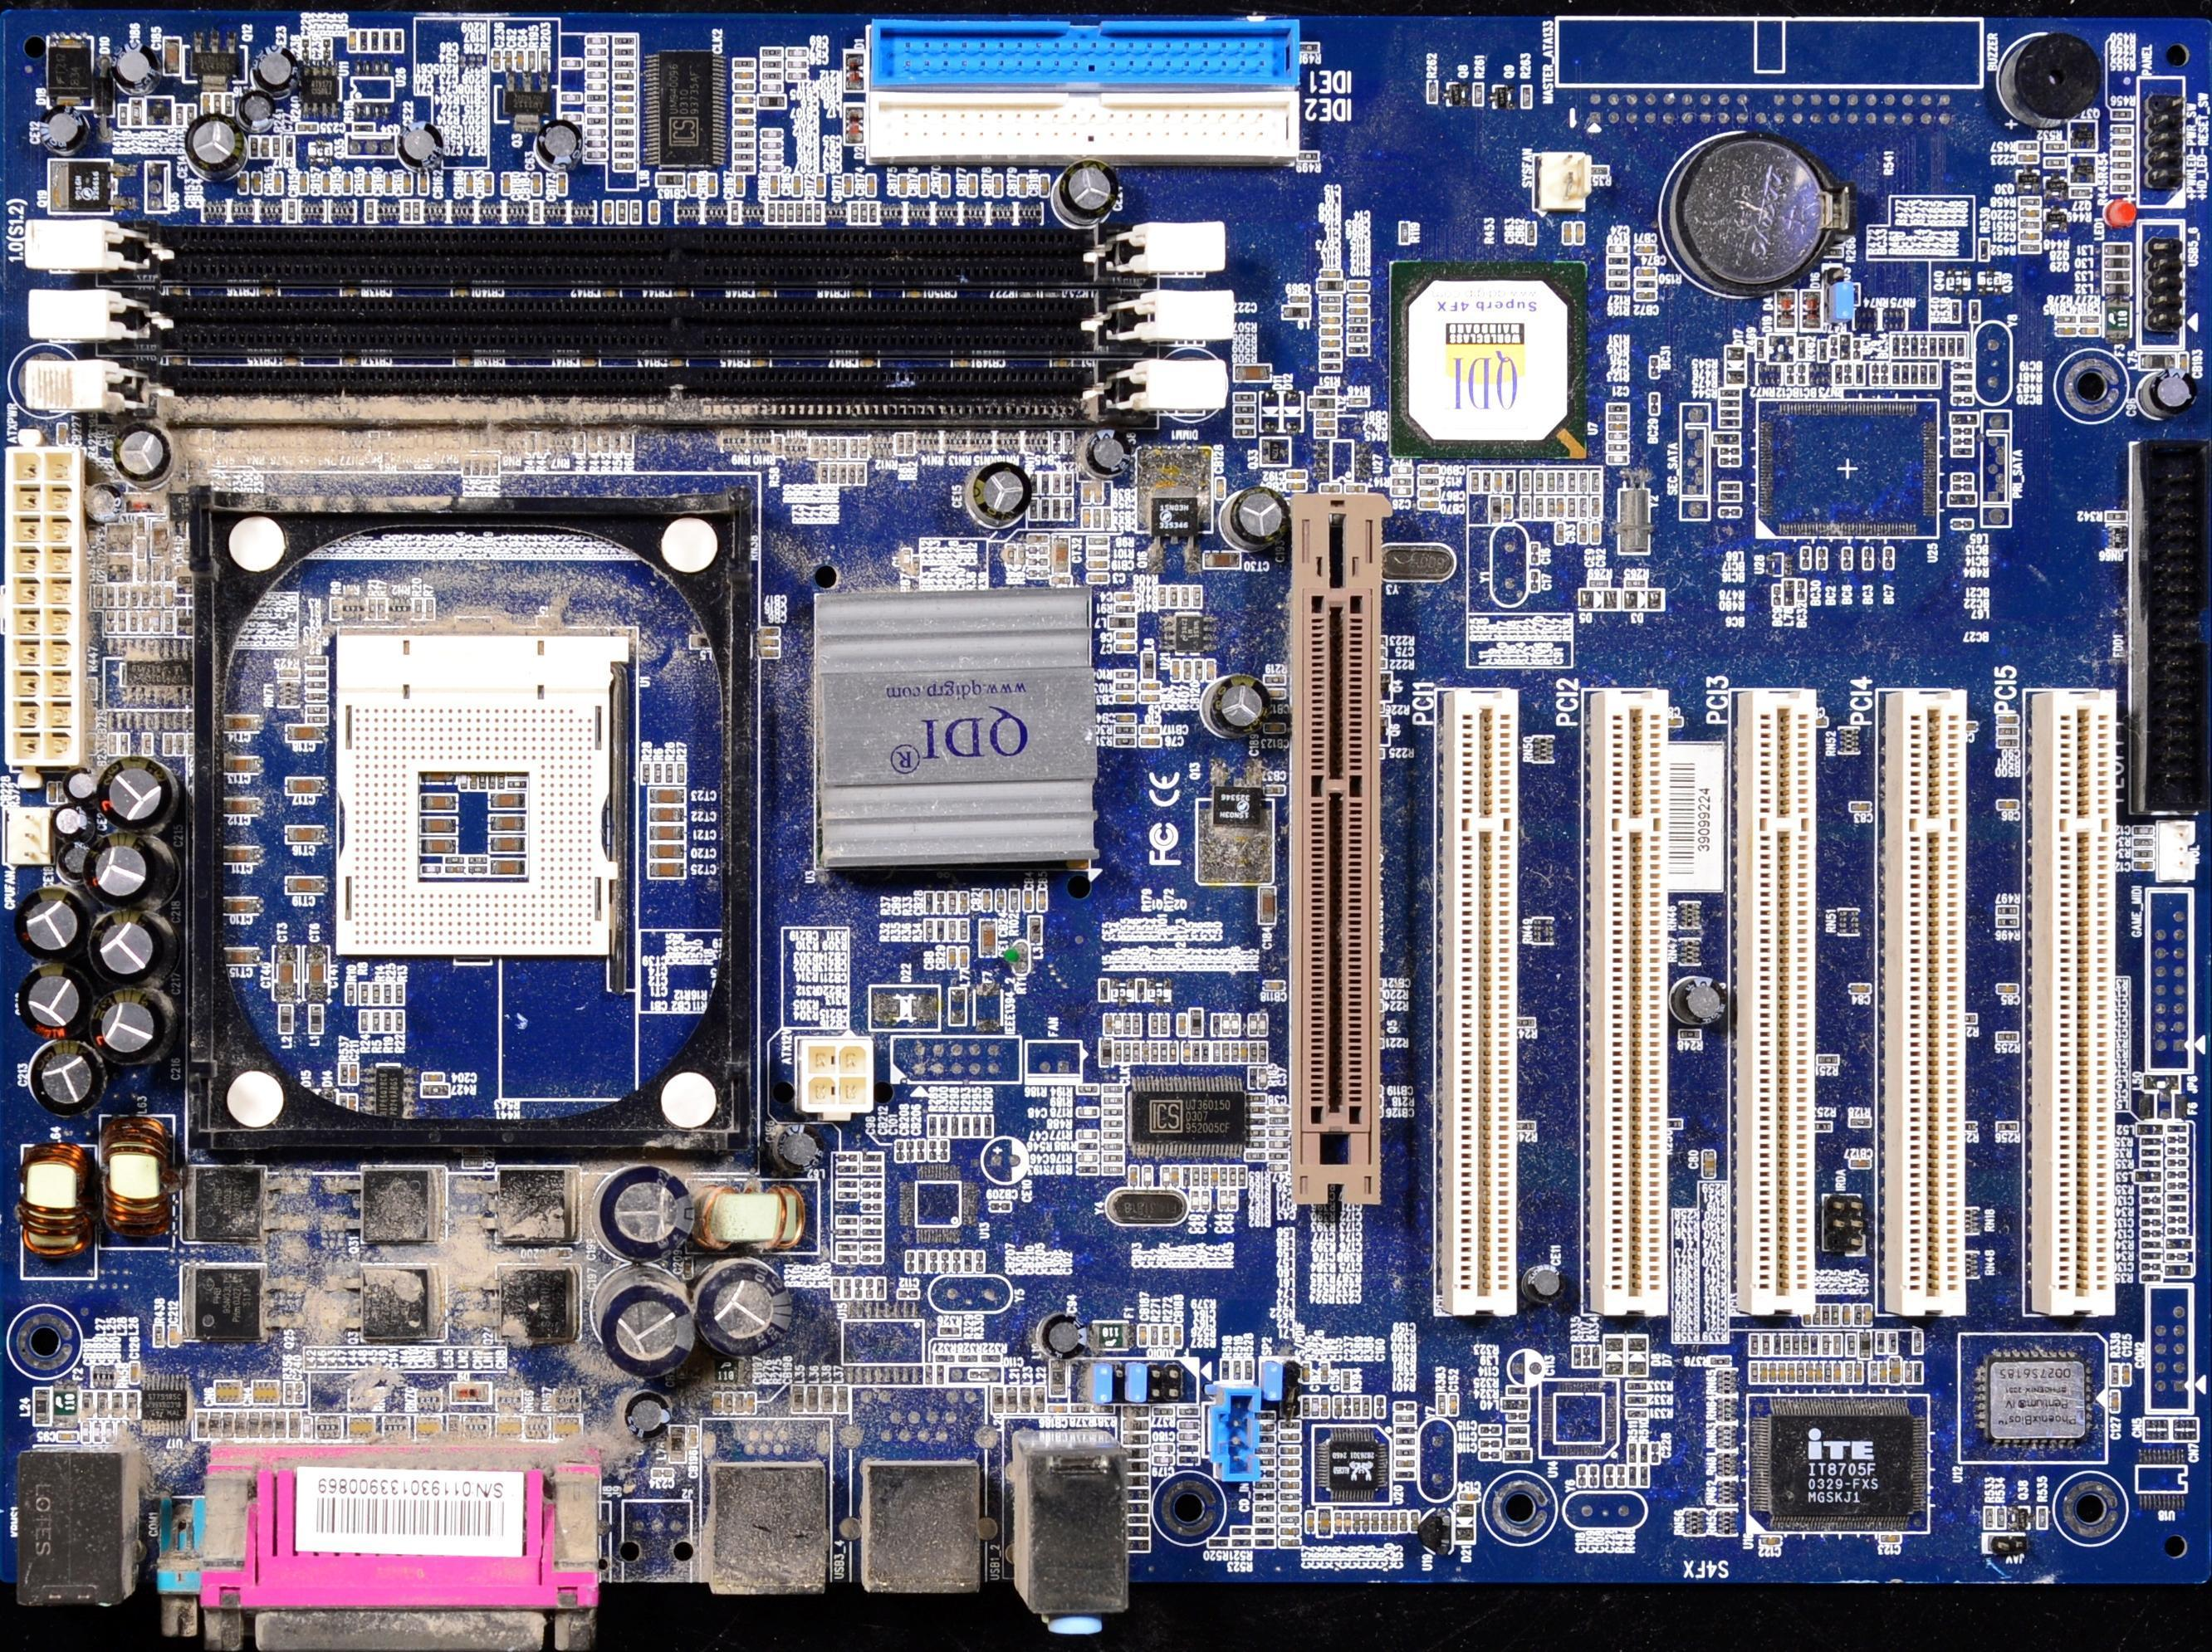Capacitor: (598, 1263, 695, 1384), (594, 1157, 697, 1262), (696, 1256, 800, 1359), (89, 910, 178, 989), (88, 835, 174, 913), (95, 984, 182, 1060), (94, 755, 176, 829), (12, 961, 94, 1033), (15, 884, 86, 964), (29, 1039, 103, 1115), (1056, 154, 1125, 226), (1206, 672, 1272, 739), (969, 462, 1035, 527), (182, 110, 245, 177), (110, 421, 174, 486), (1223, 484, 1289, 547), (35, 102, 95, 154), (771, 1122, 828, 1176), (534, 117, 586, 169), (395, 117, 446, 170), (2141, 370, 2198, 416), (249, 45, 299, 95), (622, 1390, 671, 1440), (1037, 1312, 1086, 1361), (110, 42, 157, 92), (1086, 428, 1131, 476), (1524, 1263, 1564, 1305), (57, 837, 93, 880), (85, 484, 123, 523), (235, 89, 273, 125), (51, 804, 89, 838), (64, 765, 99, 800), (163, 36, 182, 76), (1204, 550, 1242, 569), (1258, 886, 1276, 924), (1052, 537, 1069, 573), (1236, 365, 1270, 380), (1702, 1151, 1717, 1178), (1318, 1508, 1331, 1536), (586, 148, 610, 162), (1217, 1188, 1231, 1213), (1138, 736, 1163, 749), (1889, 1358, 1901, 1384), (585, 104, 609, 116), (2119, 1362, 2131, 1386), (2166, 1157, 2190, 1170), (1199, 1190, 1211, 1213), (759, 152, 785, 163), (2166, 1192, 2189, 1205), (56, 1430, 79, 1443), (1759, 1535, 1781, 1547), (2132, 860, 2156, 872), (2018, 231, 2041, 242), (1529, 543, 1540, 566), (1139, 692, 1162, 703), (1997, 982, 2019, 995), (1847, 983, 1872, 994), (130, 1360, 140, 1385), (1480, 1425, 1502, 1436), (1480, 1438, 1502, 1449), (1634, 290, 1657, 301), (560, 58, 583, 70), (760, 128, 784, 139), (760, 139, 784, 150), (200, 94, 213, 115), (295, 122, 321, 132), (585, 81, 607, 92), (560, 111, 584, 122), (1189, 1190, 1201, 1211), (2166, 1203, 2188, 1215), (1493, 472, 1504, 495), (1998, 799, 2019, 811), (2166, 1146, 2190, 1156), (587, 125, 607, 138), (2019, 208, 2041, 218), (347, 30, 358, 52), (1608, 431, 1630, 442), (1418, 498, 1441, 509), (1395, 1458, 1416, 1469), (1850, 803, 1871, 814), (1457, 1493, 1481, 1503), (1563, 222, 1573, 246), (1997, 715, 2021, 725), (1390, 464, 1412, 475), (2165, 1215, 2188, 1224), (2166, 1252, 2189, 1262), (1638, 243, 1658, 255), (1319, 327, 1343, 337), (785, 60, 808, 70), (1346, 281, 1371, 291), (1555, 521, 1564, 546), (1636, 266, 1657, 277), (760, 81, 782, 91), (1077, 1108, 1099, 1118), (895, 1141, 905, 1163), (169, 1326, 179, 1348), (1479, 1450, 1501, 1460), (1321, 269, 1343, 279), (1114, 593, 1137, 603), (1114, 692, 1137, 702), (2133, 825, 2155, 835), (1077, 1130, 1099, 1140), (918, 1141, 927, 1162), (1172, 1326, 1182, 1347), (1448, 1395, 1458, 1416), (1178, 1432, 1200, 1442), (1502, 496, 1512, 518), (1116, 641, 1136, 652), (421, 1074, 444, 1083), (1591, 522, 1600, 545), (1248, 1014, 1258, 1034), (1768, 1362, 1778, 1383), (2017, 154, 2038, 164), (587, 36, 608, 46), (1608, 421, 1628, 431), (586, 48, 607, 58), (504, 49, 514, 70), (1582, 1346, 1591, 1368), (1579, 522, 1588, 545), (1530, 570, 1539, 593), (492, 49, 502, 71), (786, 71, 809, 81), (1556, 496, 1564, 520), (1815, 1362, 1825, 1382), (1419, 464, 1439, 474), (559, 94, 580, 103), (1301, 1361, 1310, 1383), (1576, 222, 1585, 244), (1206, 660, 1216, 682), (1607, 245, 1630, 253), (1284, 470, 1307, 478), (587, 139, 606, 149), (1392, 486, 1411, 496), (2166, 1226, 2187, 1235), (1047, 1405, 1068, 1414), (1410, 1511, 1419, 1532), (1334, 1512, 1343, 1532), (1265, 723, 1285, 732), (1878, 1361, 1887, 1384), (1862, 1305, 1872, 1325), (1320, 316, 1340, 325), (1608, 454, 1627, 463), (1083, 482, 1092, 502), (1141, 682, 1161, 691), (2166, 1136, 2190, 1144), (1232, 1014, 1241, 1035), (1177, 1420, 1199, 1429), (1372, 1511, 1380, 1532), (1804, 1364, 1813, 1383), (1087, 574, 1110, 581), (1172, 659, 1180, 682), (1260, 1013, 1268, 1034), (1138, 1326, 1147, 1347), (2112, 1391, 2120, 1411), (1152, 1444, 1173, 1453), (1153, 1456, 1174, 1464), (1399, 1511, 1407, 1532), (1390, 1511, 1398, 1532), (1419, 490, 1440, 498), (1115, 630, 1136, 638), (587, 71, 608, 79), (761, 165, 784, 173), (1362, 1513, 1371, 1531), (1320, 1362, 1329, 1382), (1778, 1363, 1786, 1383), (1306, 1512, 1314, 1532), (516, 51, 524, 71), (1382, 1511, 1389, 1532), (1084, 510, 1092, 529), (1788, 1362, 1795, 1383), (1352, 1513, 1360, 1532), (1230, 1188, 1236, 1210), (1760, 1362, 1768, 1382), (1320, 1397, 1328, 1417), (1881, 1535, 1901, 1542), (350, 1063, 357, 1084), (1855, 1362, 1862, 1384), (1344, 1513, 1352, 1532), (1223, 1017, 1231, 1034), (1834, 1365, 1842, 1383), (1844, 1307, 1852, 1324), (2180, 354, 2188, 371)
Connector: (26, 346, 1241, 428), (26, 280, 1251, 348), (1280, 489, 1394, 1214), (24, 217, 1231, 281), (1878, 684, 1975, 1319), (1730, 690, 1823, 1317), (1431, 682, 1522, 1313), (1584, 686, 1674, 1315), (2029, 684, 2119, 1307), (872, 17, 1300, 90), (869, 93, 1298, 156), (1667, 972, 1727, 1028)
IC: (1385, 257, 1593, 462), (1745, 1392, 1928, 1535), (1961, 1335, 2107, 1463), (644, 49, 730, 170), (1127, 1078, 1248, 1158), (1315, 1424, 1393, 1502), (118, 641, 195, 708), (359, 1066, 419, 1123), (139, 1373, 192, 1438), (1159, 609, 1221, 652), (298, 64, 340, 118)
Resistor: (130, 98, 144, 127), (1425, 80, 1440, 105), (1295, 150, 1321, 164), (732, 56, 759, 69), (1626, 1464, 1640, 1488), (1521, 84, 1534, 109), (731, 151, 757, 164), (923, 918, 936, 944), (423, 1084, 448, 1097), (1606, 442, 1632, 454), (1520, 469, 1532, 495), (1471, 83, 1485, 107), (1606, 278, 1631, 291), (1565, 496, 1578, 521), (732, 129, 758, 140), (732, 164, 758, 175), (759, 58, 785, 70), (731, 140, 759, 151), (153, 1323, 165, 1347), (2018, 242, 2042, 255), (631, 198, 643, 224), (1525, 219, 1537, 245), (1626, 1394, 1648, 1407), (345, 983, 356, 1008), (2140, 1159, 2163, 1171), (1398, 222, 1411, 246), (1969, 298, 1980, 323), (760, 45, 783, 57), (1848, 1117, 1872, 1128), (118, 104, 130, 128), (1436, 1393, 1448, 1417), (1299, 42, 1321, 54), (1113, 736, 1136, 749), (2140, 1206, 2163, 1218), (835, 1253, 859, 1264), (1506, 1385, 1529, 1396), (617, 200, 629, 223), (1591, 471, 1603, 494), (761, 70, 784, 81), (283, 136, 296, 158), (1577, 470, 1588, 495), (1470, 471, 1480, 496), (1177, 1454, 1200, 1466), (369, 31, 381, 53), (1589, 497, 1601, 520), (614, 71, 636, 82), (2166, 1169, 2190, 1180), (1572, 1345, 1583, 1369), (1625, 1381, 1649, 1391), (393, 28, 404, 52), (613, 59, 637, 70), (1533, 471, 1545, 491), (1566, 471, 1578, 491), (732, 106, 757, 116), (1679, 1028, 1702, 1039), (1245, 1104, 1267, 1116), (1267, 1151, 1290, 1161), (859, 1164, 883, 1175), (1627, 1408, 1648, 1420), (2037, 1507, 2048, 1530), (2043, 157, 2066, 168), (2018, 197, 2041, 208), (859, 437, 869, 460), (847, 464, 858, 487), (1545, 470, 1557, 491), (1578, 497, 1589, 519), (541, 48, 551, 71), (641, 763, 653, 784), (1996, 1033, 2021, 1043), (1101, 1107, 1126, 1117), (612, 36, 637, 46), (1816, 1054, 1838, 1065), (1996, 1122, 2019, 1133), (2112, 110, 2134, 120), (2139, 1273, 2161, 1283), (1244, 1359, 1255, 1381), (1507, 1424, 1529, 1435), (837, 463, 848, 486), (614, 46, 636, 57), (1104, 1117, 1124, 1129), (1394, 1425, 1415, 1436), (828, 463, 839, 484), (937, 918, 947, 942), (927, 1114, 937, 1138), (2139, 1147, 2163, 1157), (1846, 1333, 1856, 1357), (1843, 1361, 1853, 1385), (1100, 1096, 1126, 1105), (213, 92, 223, 114), (1113, 1043, 1124, 1064), (339, 1063, 350, 1084), (1709, 1356, 1730, 1367), (2109, 1364, 2120, 1386), (1984, 1507, 1994, 1528), (676, 762, 687, 784), (360, 1009, 370, 1032), (1245, 1151, 1269, 1161), (1076, 1166, 1099, 1175), (2140, 1184, 2163, 1194), (1393, 1470, 1417, 1480), (2056, 314, 2079, 324), (1520, 496, 1530, 520), (1194, 658, 1204, 682), (1115, 681, 1138, 691), (1998, 726, 2021, 736), (1995, 906, 2020, 915), (1075, 1154, 1100, 1163), (1607, 257, 1632, 266), (1249, 1041, 1260, 1062), (653, 765, 664, 785), (1996, 917, 2019, 927), (960, 919, 970, 941), (396, 984, 406, 1006), (372, 1010, 382, 1033), (1102, 1085, 1124, 1095), (984, 1116, 994, 1138), (861, 1227, 883, 1237), (837, 1242, 859, 1252), (285, 1382, 295, 1405), (1394, 1401, 1417, 1411), (2111, 138, 2133, 148), (1207, 1538, 1230, 1548), (2070, 188, 2092, 198), (1534, 496, 1544, 519), (1588, 577, 1610, 587), (1627, 1444, 1639, 1463), (1160, 1039, 1169, 1063), (2139, 1136, 2163, 1146), (2044, 142, 2068, 151), (1607, 268, 1631, 277), (1624, 579, 1648, 589), (951, 1115, 961, 1136), (972, 1115, 982, 1136), (1395, 1448, 1417, 1458), (1640, 1464, 1650, 1486), (614, 149, 636, 159), (1526, 222, 1536, 244), (1607, 403, 1628, 413), (904, 433, 914, 455), (1481, 471, 1491, 492), (384, 982, 393, 1005), (2165, 1181, 2188, 1190), (613, 128, 636, 137), (1761, 1333, 1770, 1356), (1152, 1407, 1175, 1416), (612, 139, 635, 148), (2111, 172, 2134, 181), (2019, 220, 2042, 229), (1979, 238, 1988, 261), (1952, 301, 1961, 324), (856, 464, 865, 487), (1087, 537, 1110, 546), (372, 984, 382, 1004), (1259, 1041, 1269, 1062), (1222, 1043, 1232, 1063), (862, 1153, 883, 1163), (1094, 1404, 1114, 1414), (1231, 1527, 1251, 1537), (894, 433, 904, 453), (1089, 549, 1109, 559), (838, 1216, 857, 1227), (948, 890, 957, 912), (962, 1115, 971, 1137), (2167, 1124, 2190, 1133), (1101, 1131, 1123, 1140), (1592, 1346, 1601, 1368), (1343, 1370, 1352, 1392), (1505, 1436, 1528, 1445), (1177, 1444, 1200, 1453), (2111, 161, 2133, 170), (2080, 315, 2102, 325), (838, 437, 847, 459), (1114, 670, 1137, 679), (948, 918, 957, 942), (835, 1179, 859, 1187), (1418, 478, 1442, 486), (224, 94, 234, 114), (1149, 1326, 1159, 1346), (1231, 1537, 1250, 1547), (1183, 662, 1193, 682), (940, 1116, 949, 1137), (837, 1165, 859, 1174), (2140, 1251, 2161, 1260), (1221, 1360, 1231, 1381), (1914, 1361, 1923, 1383), (1394, 1438, 1416, 1447), (2018, 141, 2039, 150), (1996, 1507, 2005, 1528), (383, 30, 392, 51), (821, 463, 830, 485), (1168, 1041, 1177, 1064), (1834, 1332, 1843, 1356), (528, 47, 536, 71), (1133, 1014, 1143, 1034), (360, 985, 369, 1005), (1150, 1014, 1159, 1035), (1123, 1042, 1132, 1063), (1192, 1043, 1201, 1063), (837, 1191, 858, 1200), (1750, 1336, 1759, 1356), (1795, 1362, 1804, 1383), (829, 438, 838, 459), (396, 1010, 404, 1033), (384, 1011, 393, 1034), (2140, 1240, 2162, 1249), (2111, 126, 2133, 134), (1793, 1333, 1801, 1356), (1233, 1359, 1241, 1381), (1905, 1361, 1913, 1384), (1391, 478, 1413, 486), (1161, 1014, 1170, 1034), (1151, 1043, 1160, 1063), (1815, 1122, 1833, 1131), (1640, 1443, 1649, 1463), (272, 136, 281, 156), (1546, 496, 1555, 516), (1606, 413, 1630, 420), (1506, 470, 1514, 494), (1124, 1014, 1133, 1035), (1245, 1094, 1267, 1102), (1103, 1142, 1124, 1151), (1822, 1303, 1830, 1325), (1162, 1325, 1171, 1347), (1177, 1408, 1199, 1416), (1395, 1415, 1417, 1423), (1279, 1516, 1300, 1524), (1636, 279, 1657, 287), (850, 437, 859, 459), (1998, 739, 2019, 747), (1203, 1042, 1211, 1063), (939, 1327, 960, 1336), (1811, 1334, 1819, 1355), (1070, 1404, 1091, 1412), (2111, 149, 2131, 158), (1774, 1334, 1781, 1356), (2111, 184, 2133, 192), (360, 29, 367, 51), (666, 762, 673, 784), (1011, 890, 1019, 910), (1131, 1043, 1139, 1063), (1104, 1155, 1123, 1163), (958, 1354, 978, 1362), (926, 892, 933, 914), (1822, 1335, 1829, 1356), (1232, 1043, 1241, 1062), (1246, 1140, 1265, 1148), (1104, 1166, 1123, 1174), (615, 117, 636, 125), (1784, 1335, 1791, 1356), (935, 1355, 956, 1362), (1557, 471, 1564, 491), (1802, 1334, 1810, 1352), (1830, 1306, 1838, 1326), (981, 1355, 1001, 1362), (1824, 1362, 1832, 1381), (1854, 1305, 1861, 1325), (1247, 1117, 1266, 1124), (1116, 726, 1135, 732)
Transistor: (323, 1263, 454, 1346), (182, 1261, 307, 1345), (321, 1162, 448, 1244), (458, 1164, 582, 1247), (198, 1161, 311, 1240), (481, 1263, 578, 1342), (1206, 758, 1269, 829), (47, 159, 134, 211), (1147, 493, 1201, 571), (500, 72, 555, 134), (189, 29, 242, 87), (1260, 437, 1289, 467), (2068, 156, 2097, 183), (2070, 121, 2097, 149), (148, 96, 173, 124), (2046, 173, 2068, 202), (2044, 207, 2068, 231), (1491, 86, 1515, 109), (2017, 171, 2040, 193), (1447, 81, 1467, 107)
